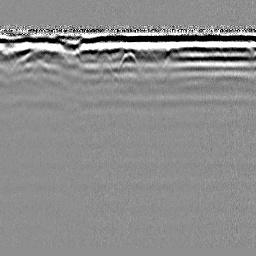cavity: (115, 50, 142, 78)
